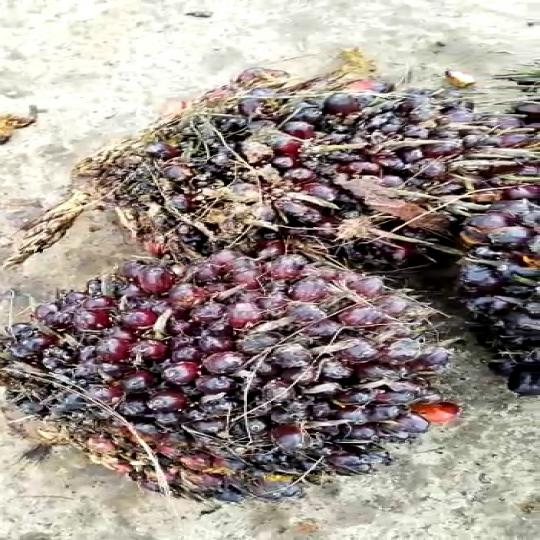kurang masak: (0, 247, 442, 500), (124, 66, 489, 272)
